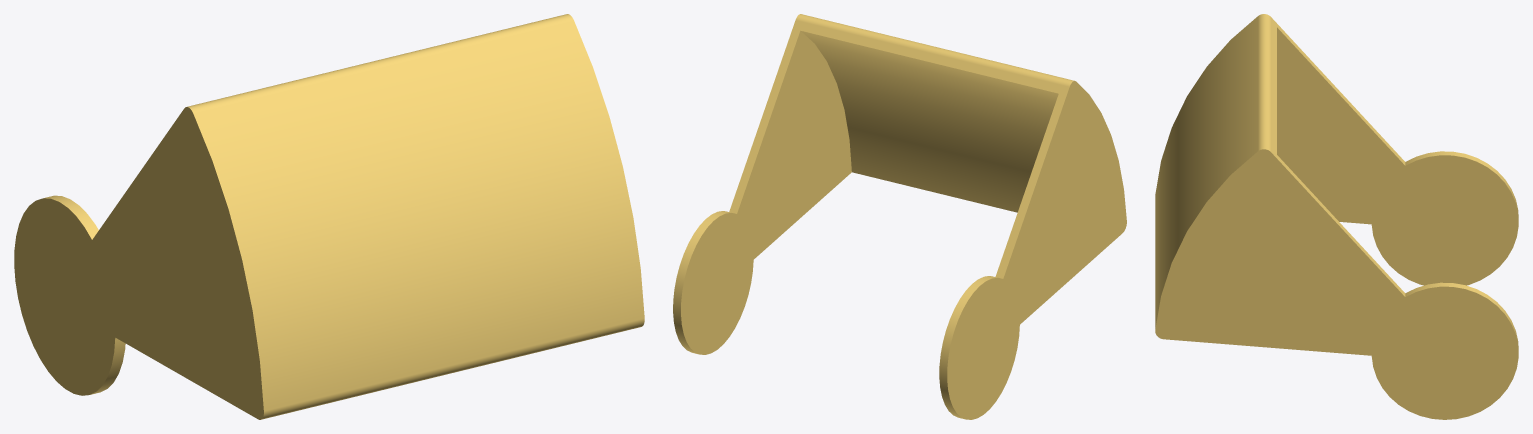
3 views of the same model, side by side, from view 1: azimuth 30°, elevation 25°; view 2: azimuth 150°, elevation 25°; view 3: azimuth 270°, elevation 25° (orthographic). The views are drawn at different scales.
Visible parts, largest first — view 1: Hood; view 2: Hood; view 3: Hood.
Boxes of the visible parts, x1,y1,x2,y2 form: Hood: [14, 14, 644, 419]; Hood: [673, 14, 1126, 419]; Hood: [1155, 14, 1518, 419].
Bounding box in the file's own units: 0.2208 × 0.2061 × 0.2508.
